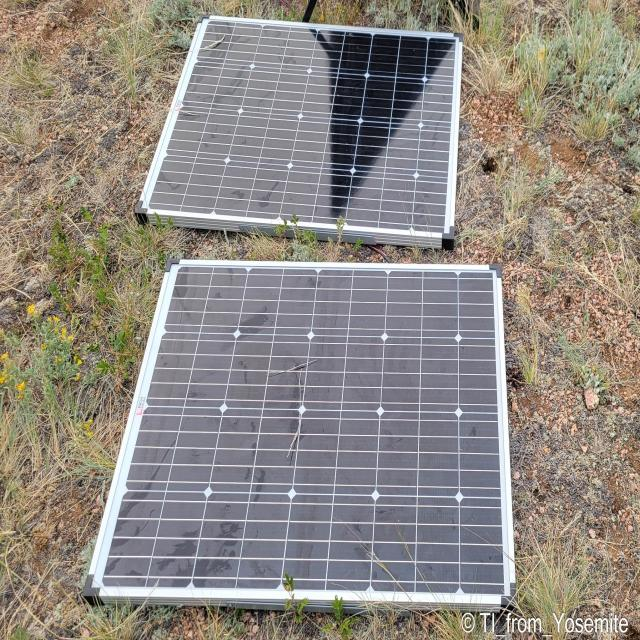dust-solar-panel: (91, 262, 514, 604), (138, 17, 462, 247)
